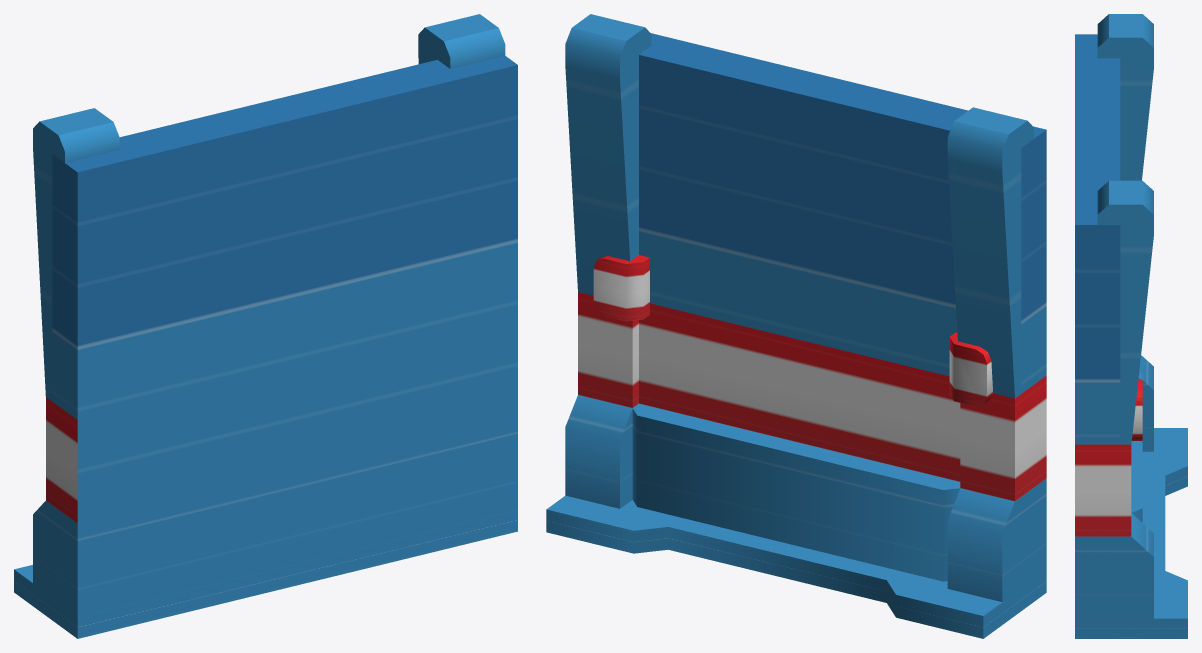
The model's file is wall_panel.glb.
3 views of the same model, side by side, from view 1: azimuth 30°, elevation 25°; view 2: azimuth 150°, elevation 25°; view 3: azimuth 270°, elevation 25° (orthographic). The views are drawn at different scales.
Visible parts, largest first — view 1: template-wall; view 2: template-wall; view 3: template-wall.
Boxes of the visible parts, x1,y1,x2,y2 form: template-wall: (14, 14, 517, 638); template-wall: (546, 14, 1046, 638); template-wall: (1075, 14, 1187, 638).
Size of the model in its own units: 4 by 4.25 by 1.
1 material, 1 textured.
